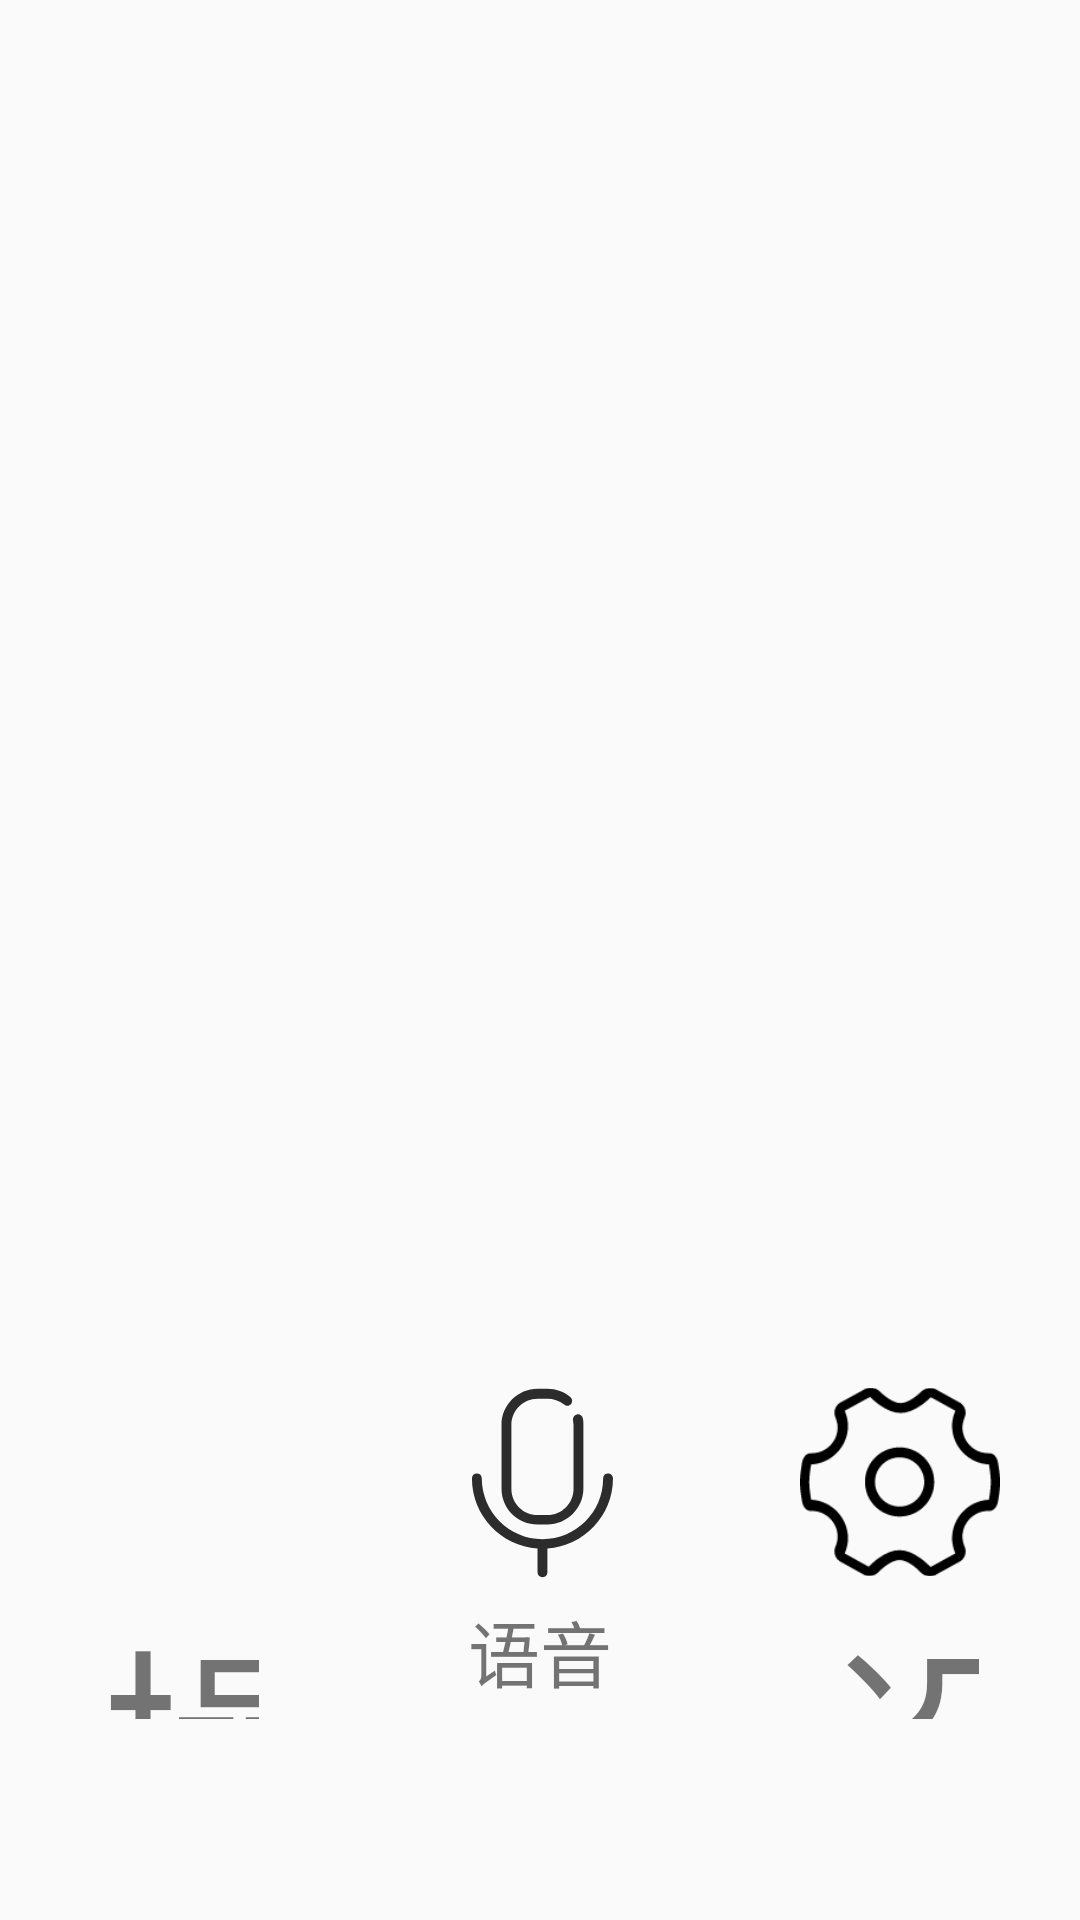

Icons on this 1080px×1920px Android screen, each with the point to tap as (x,y):
setting: (900,1482)
